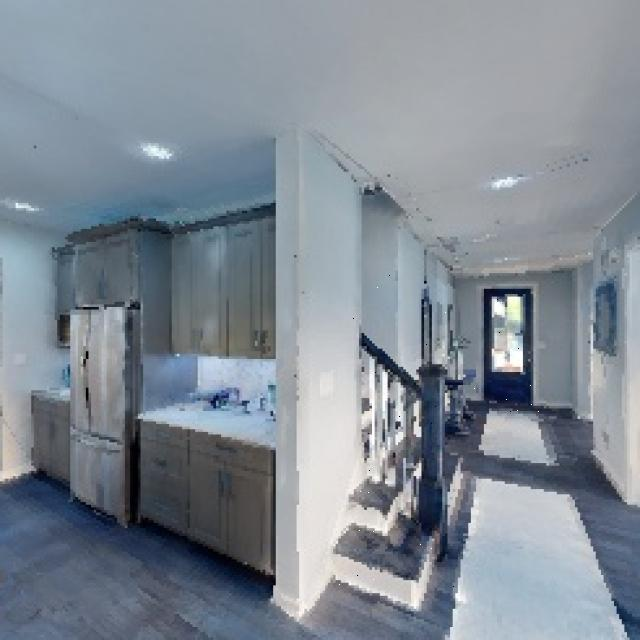door: (474, 285, 545, 414)
stairs: (339, 261, 464, 622)
